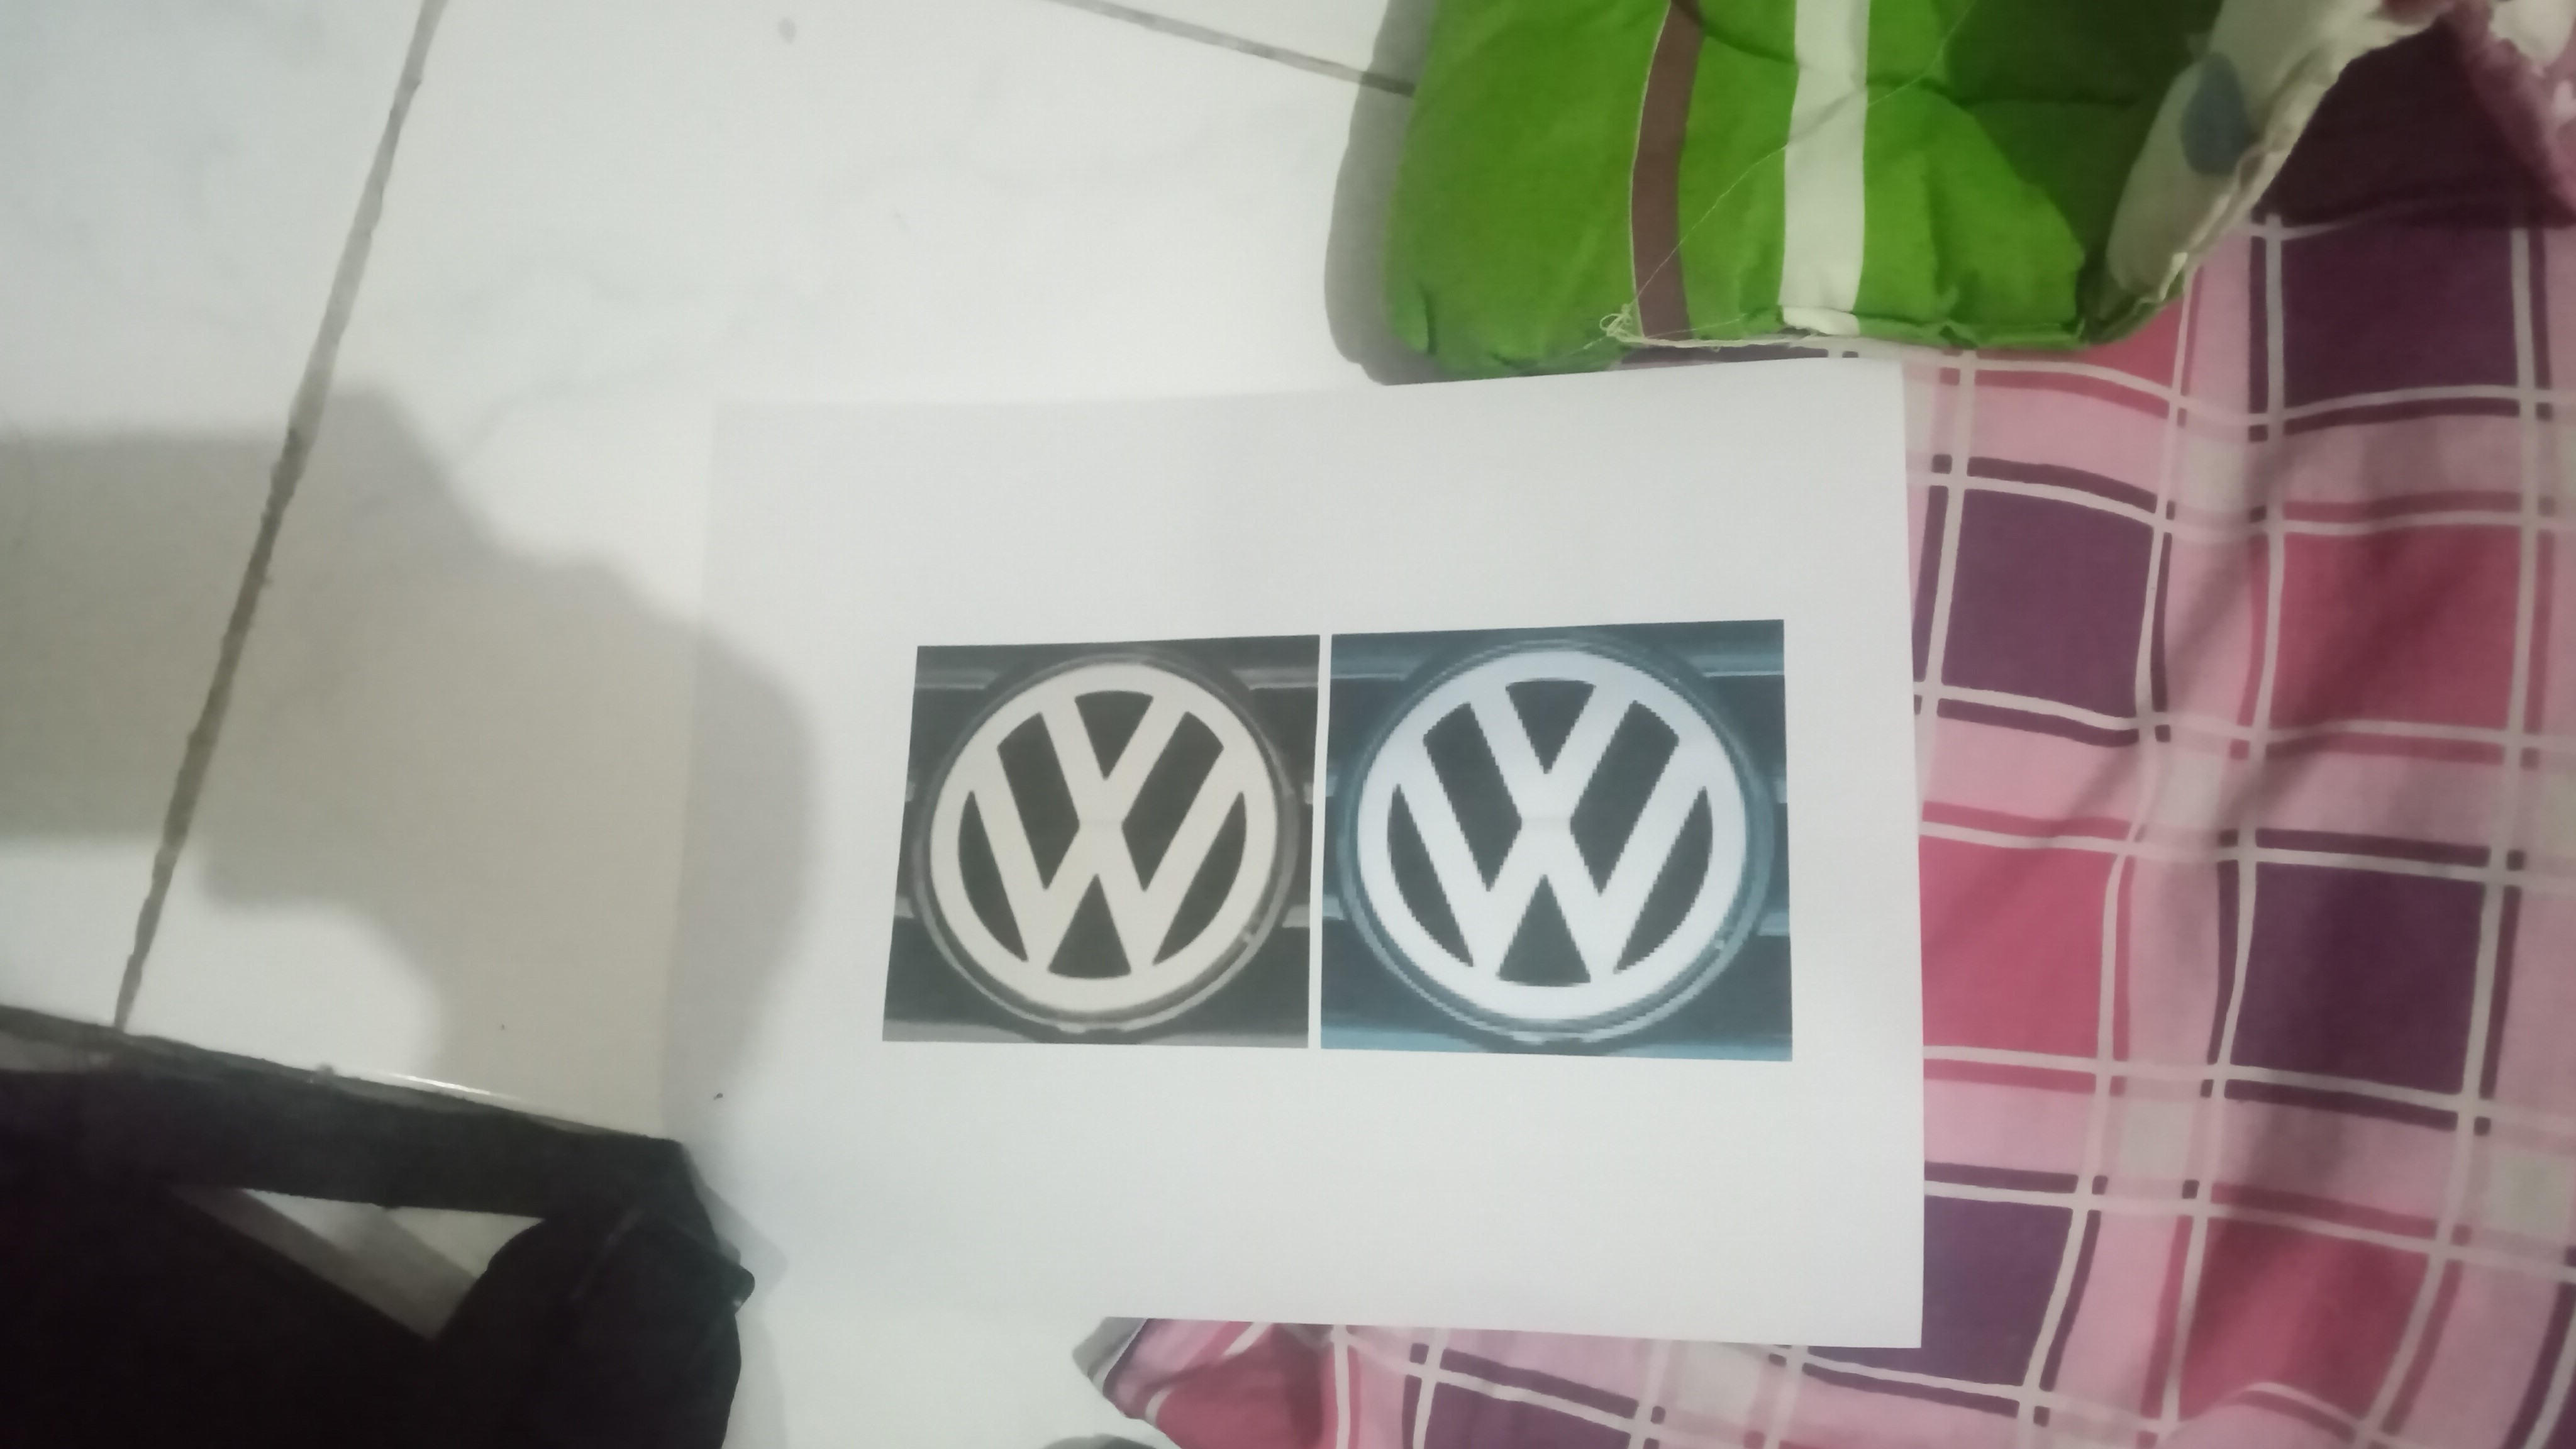Volkswagen: (1343, 630, 1767, 1058), (924, 651, 1293, 1044)
